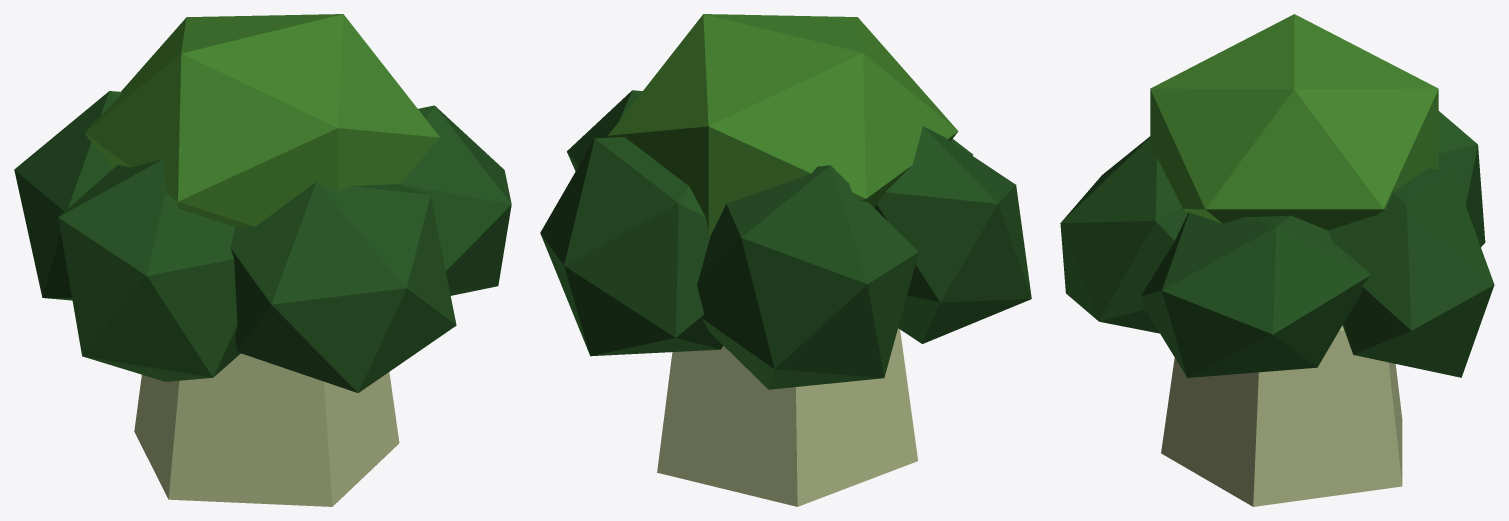
The model's file is broccoli-69c8b6.glb.
3 renders of one model, left to right at view 1: azimuth 30°, elevation 25°; view 2: azimuth 150°, elevation 25°; view 3: azimuth 270°, elevation 25°, orthographic. The views are drawn at different scales.
Size of the model in its own units: 0.1769 by 0.1594 by 0.1561.
